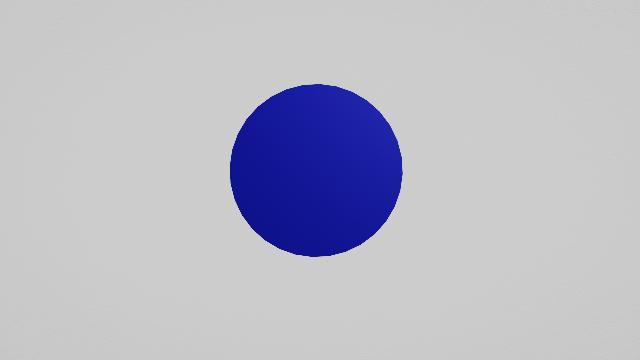Cylinder: (217, 80, 413, 260)
